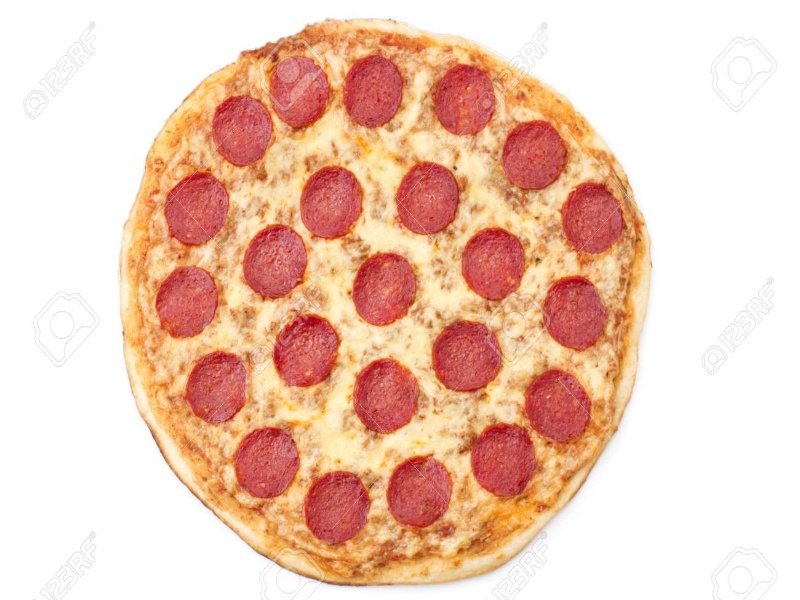pepperonis: (302, 462, 373, 547), (466, 420, 541, 499), (162, 168, 231, 250), (543, 273, 612, 355), (207, 91, 280, 167), (352, 359, 424, 436), (271, 312, 343, 388), (262, 56, 332, 132), (432, 317, 502, 392), (230, 424, 299, 500), (243, 222, 311, 299), (394, 160, 461, 238), (521, 369, 593, 441), (427, 65, 500, 136), (459, 227, 529, 301), (388, 453, 456, 529), (178, 350, 250, 421), (501, 119, 571, 191), (560, 181, 628, 255), (352, 253, 418, 328), (342, 55, 407, 131), (300, 163, 362, 242), (153, 267, 221, 339)
